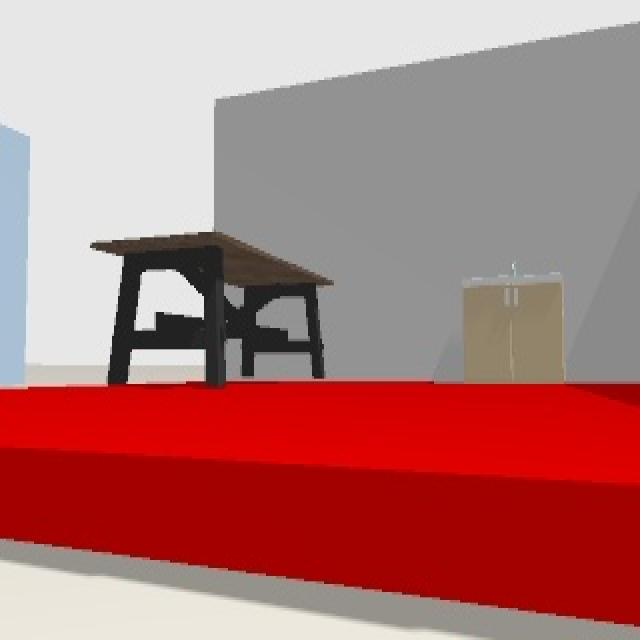dining: (89, 231, 332, 386)
